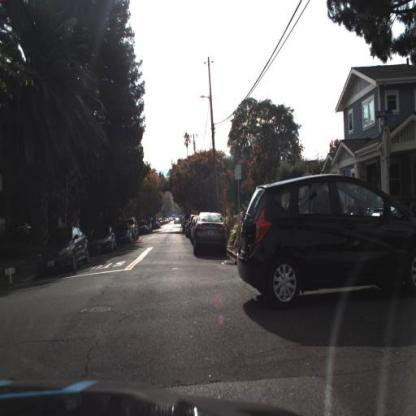car: (238, 173, 416, 310), (38, 230, 92, 272), (194, 212, 228, 258), (87, 226, 118, 256), (117, 223, 133, 247), (129, 216, 140, 241)
